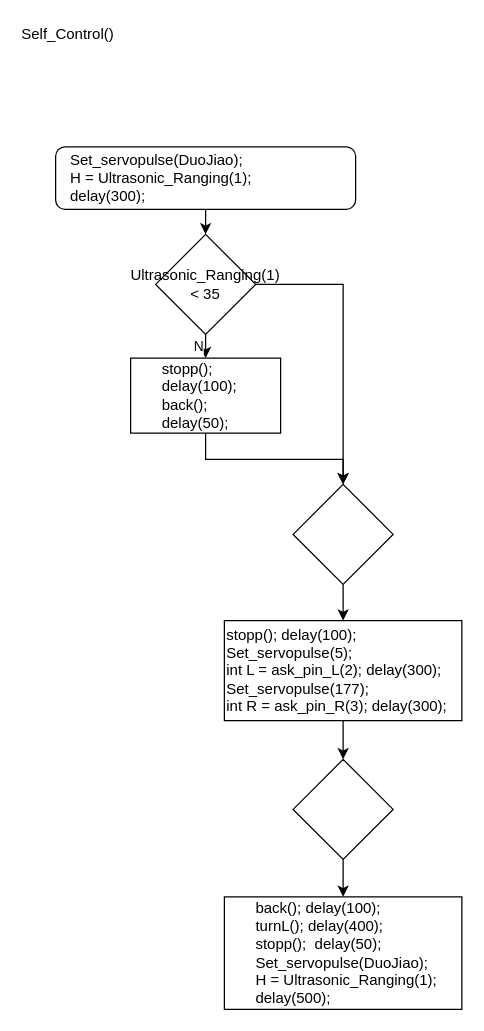
Some shapes in this 484 by 1031 pixel diagram are drawn without their labels. The centre of each missing label's shape, as x and y in pixels:
ask_pin_L(2) > ask_pin_R(3): (x=342, y=808)
Ultrasonic_Ranging(1) < 60: (x=342, y=533)
